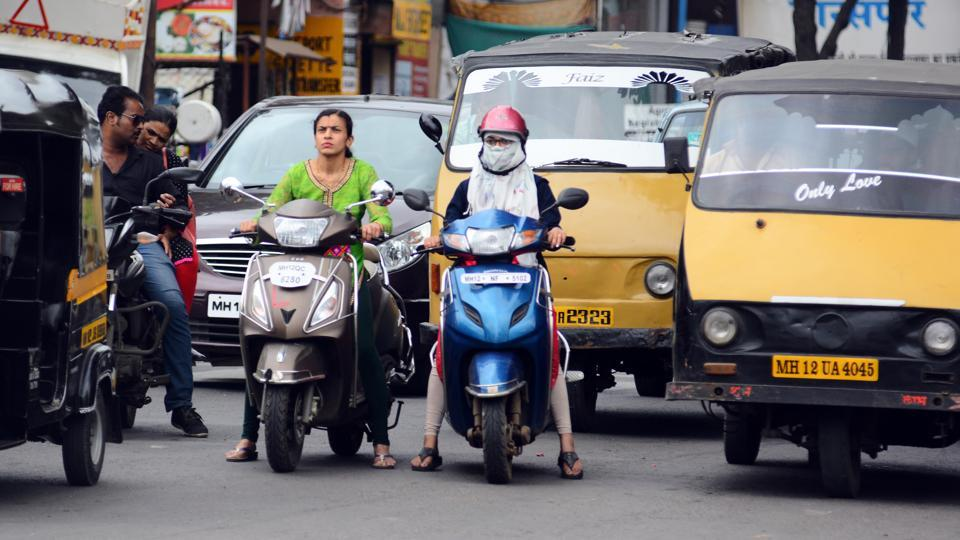h_bike: (401, 102, 585, 486), (238, 110, 411, 484)
h_nohelmet: (309, 104, 362, 169)
numplate: (454, 267, 536, 298), (262, 259, 320, 300)
